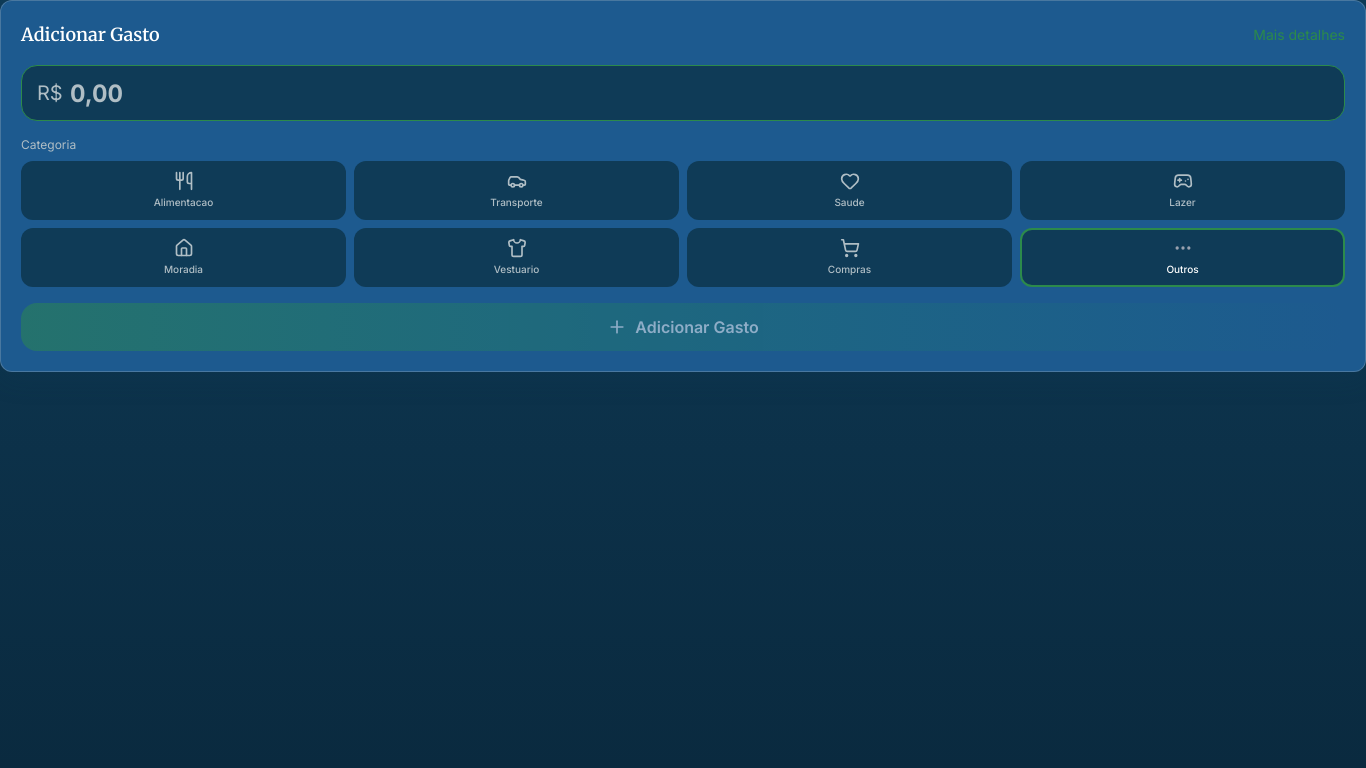
logging an expense from another day › should follow the day the user selects on the week strip
This screenshot has width=1366, height=768.
Click the button "Mais detalhes" at (1299, 35), box [1253, 25, 1345, 45]
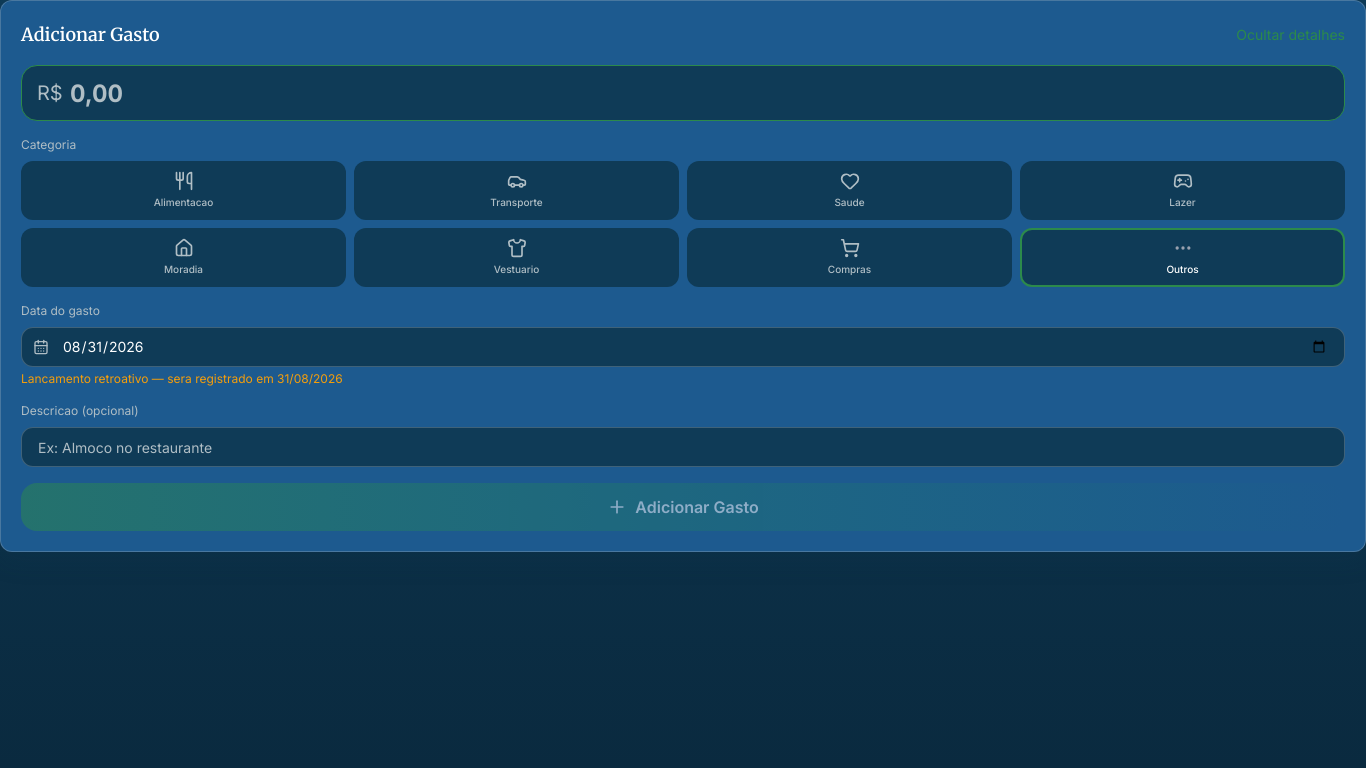
expect the date field showing "2026-08-31" is shown: met, box [21, 327, 1345, 367]
